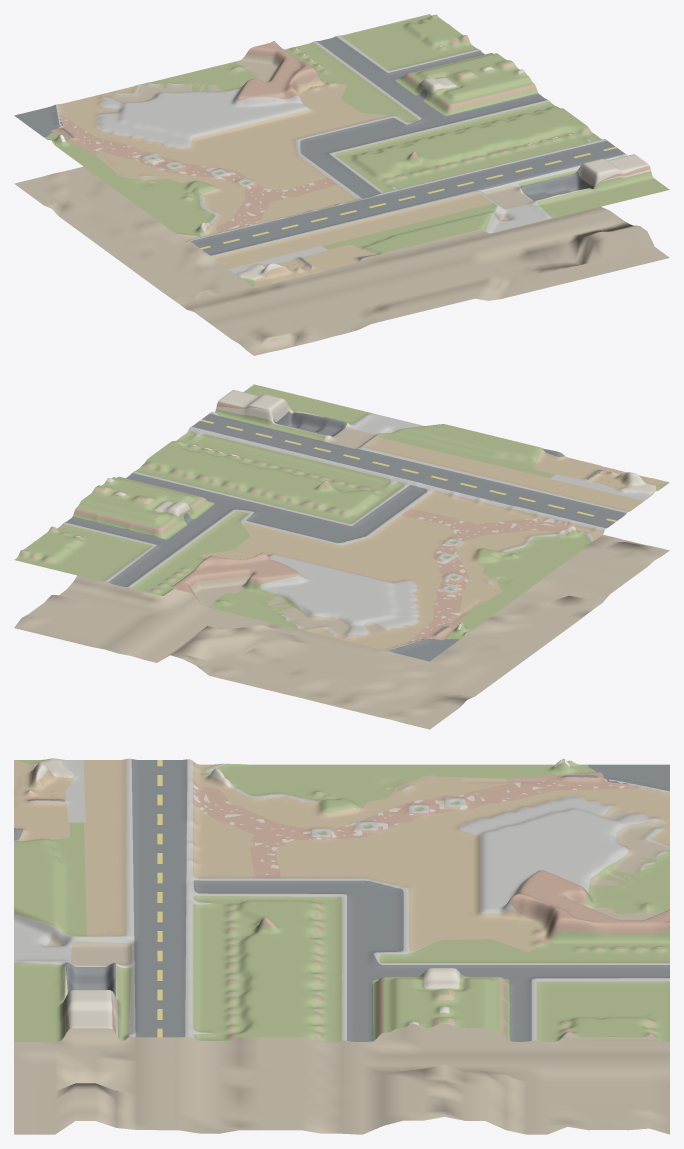
The picture shows the model from 3 angles, top to bottom: view 1: azimuth 30°, elevation 25°; view 2: azimuth 150°, elevation 25°; view 3: azimuth 270°, elevation 25°; orthographic projection. The views are drawn at different scales.
Parts seen in each view (by area): view 1: s_-7_-5__soil, s_-7_-5__grass, s_-7_-5__timber_deck, s_-7_-5__asphalt, s_-7_-5__stone_paving, s_-7_-5__brick_paving, s_-7_-5__paving, s_-7_-5__yellow_marking; view 2: s_-7_-5__soil, s_-7_-5__grass, s_-7_-5__timber_deck, s_-7_-5__asphalt, s_-7_-5__stone_paving, s_-7_-5__brick_paving, s_-7_-5__paving, s_-7_-5__yellow_marking; view 3: s_-7_-5__soil, s_-7_-5__grass, s_-7_-5__timber_deck, s_-7_-5__asphalt, s_-7_-5__stone_paving, s_-7_-5__brick_paving, s_-7_-5__paving, s_-7_-5__yellow_marking.
Boxes of the visible parts, x1,y1,x2,y2 form: s_-7_-5__soil: (14, 55, 669, 355); s_-7_-5__grass: (44, 14, 669, 287); s_-7_-5__timber_deck: (57, 60, 515, 287); s_-7_-5__asphalt: (14, 36, 624, 268); s_-7_-5__stone_paving: (56, 35, 627, 274); s_-7_-5__brick_paving: (51, 14, 650, 270); s_-7_-5__paving: (59, 66, 650, 280); s_-7_-5__yellow_marking: (200, 146, 616, 249); s_-7_-5__soil: (14, 413, 669, 729); s_-7_-5__grass: (14, 384, 668, 639); s_-7_-5__timber_deck: (93, 437, 669, 650); s_-7_-5__asphalt: (65, 411, 626, 661); s_-7_-5__stone_paving: (63, 412, 651, 650); s_-7_-5__brick_paving: (19, 401, 610, 644); s_-7_-5__paving: (106, 390, 656, 640); s_-7_-5__yellow_marking: (200, 419, 616, 521); s_-7_-5__soil: (14, 775, 669, 1134); s_-7_-5__grass: (14, 758, 669, 1041); s_-7_-5__timber_deck: (14, 758, 669, 1026); s_-7_-5__asphalt: (14, 759, 669, 1041); s_-7_-5__stone_paving: (14, 758, 669, 1040); s_-7_-5__brick_paving: (24, 761, 669, 1040); s_-7_-5__paving: (32, 758, 623, 1036); s_-7_-5__yellow_marking: (157, 760, 162, 1037).
Bounding box in the file's own units: 128 × 26.95 × 128.
